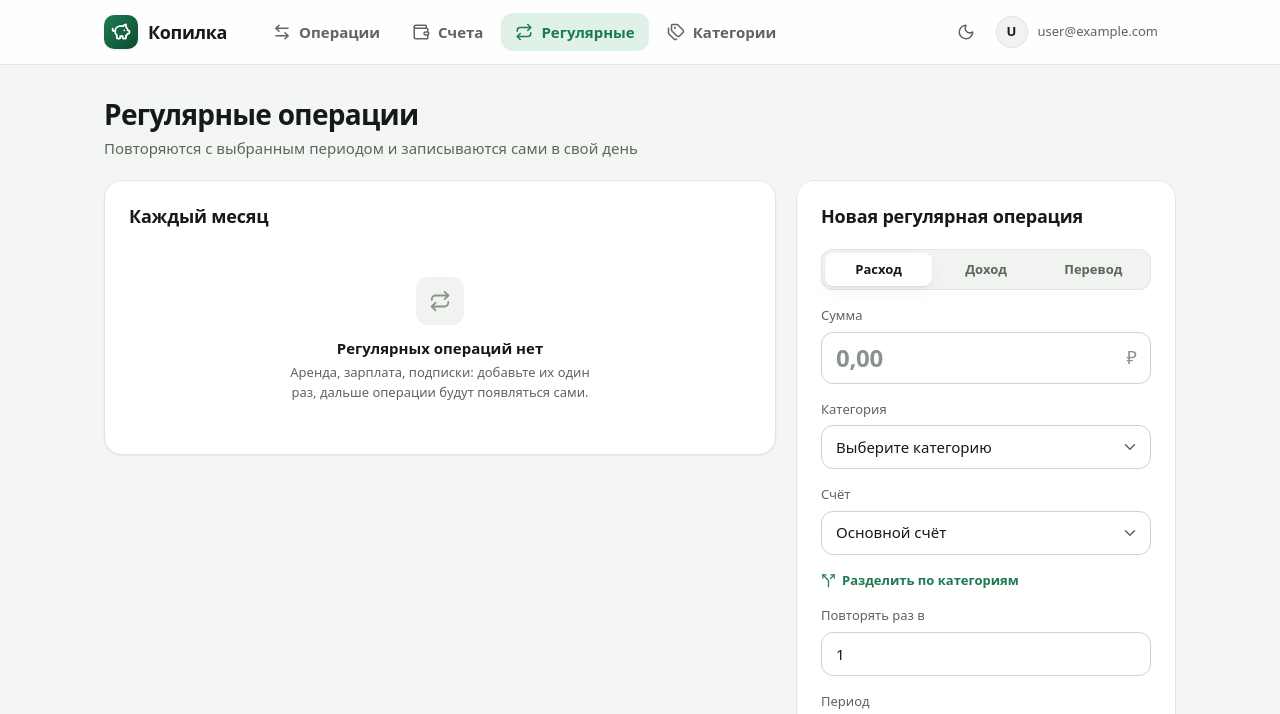
Scenario: RecurringPage › creates a rule that splits each payment between categories
Type "3500" into the field labelled "Сумма".
click(986, 358); type("3500")  # box x1=821 y1=332 x2=1151 y2=384
Select "Жильё" in the dropdown labelled "Категория" at (986, 447), box x1=821 y1=425 x2=1151 y2=469
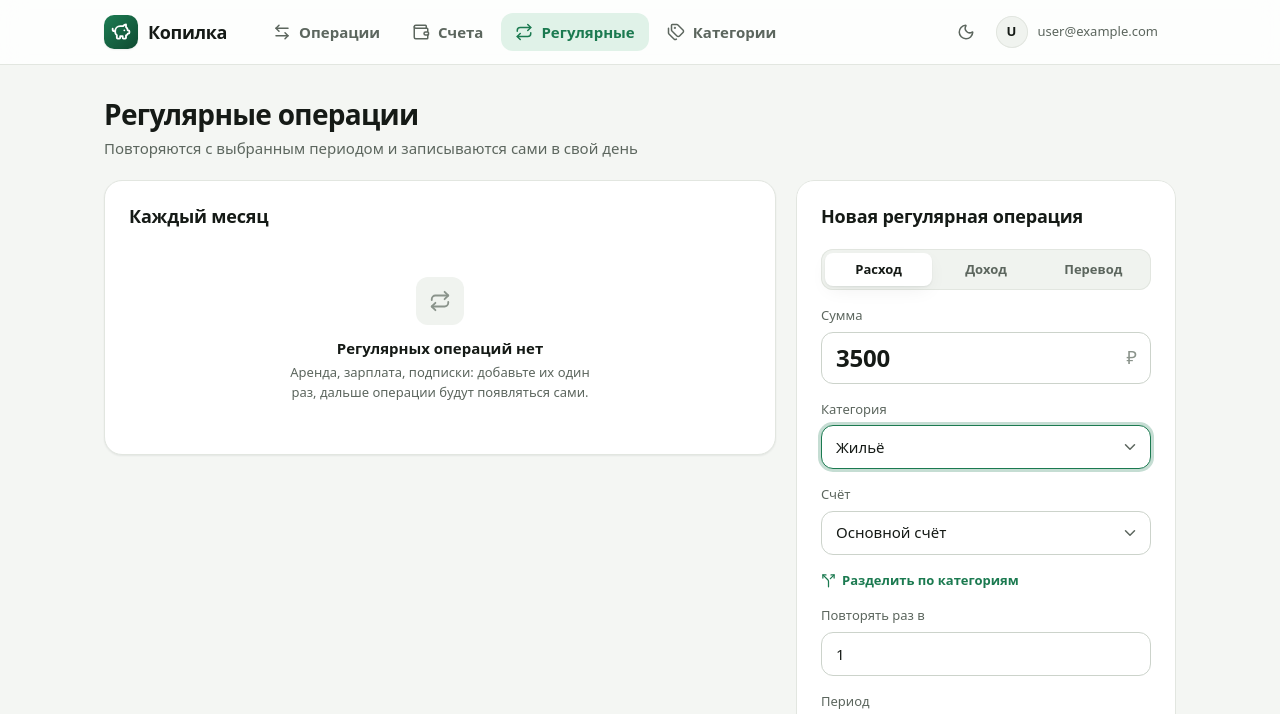
Click the button "Разделить по категориям".
click(920, 580)  # box x1=821 y1=570 x2=1019 y2=590
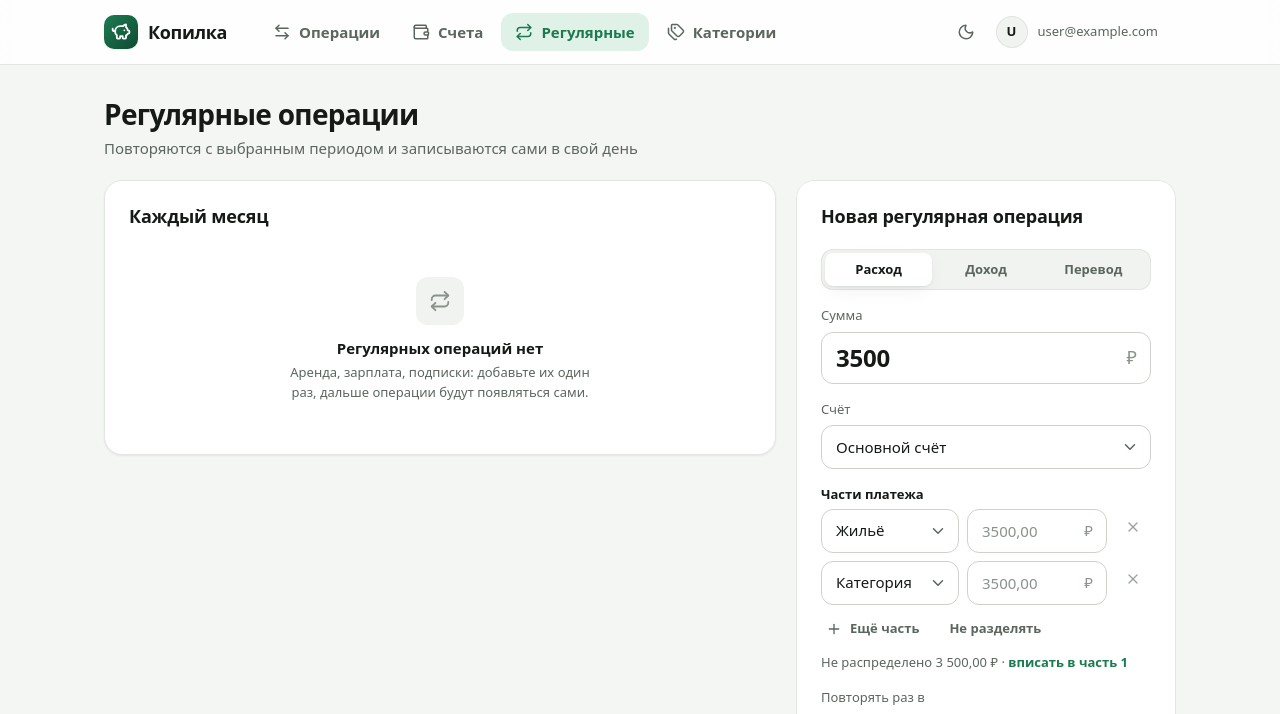
Now the 1st dropdown named "Категория части 1" shows "Жильё", box x1=821 y1=508 x2=959 y2=552
Type "2000" into the field named "Сумма части 1".
click(1037, 530); type("2000")  # box x1=967 y1=508 x2=1107 y2=552
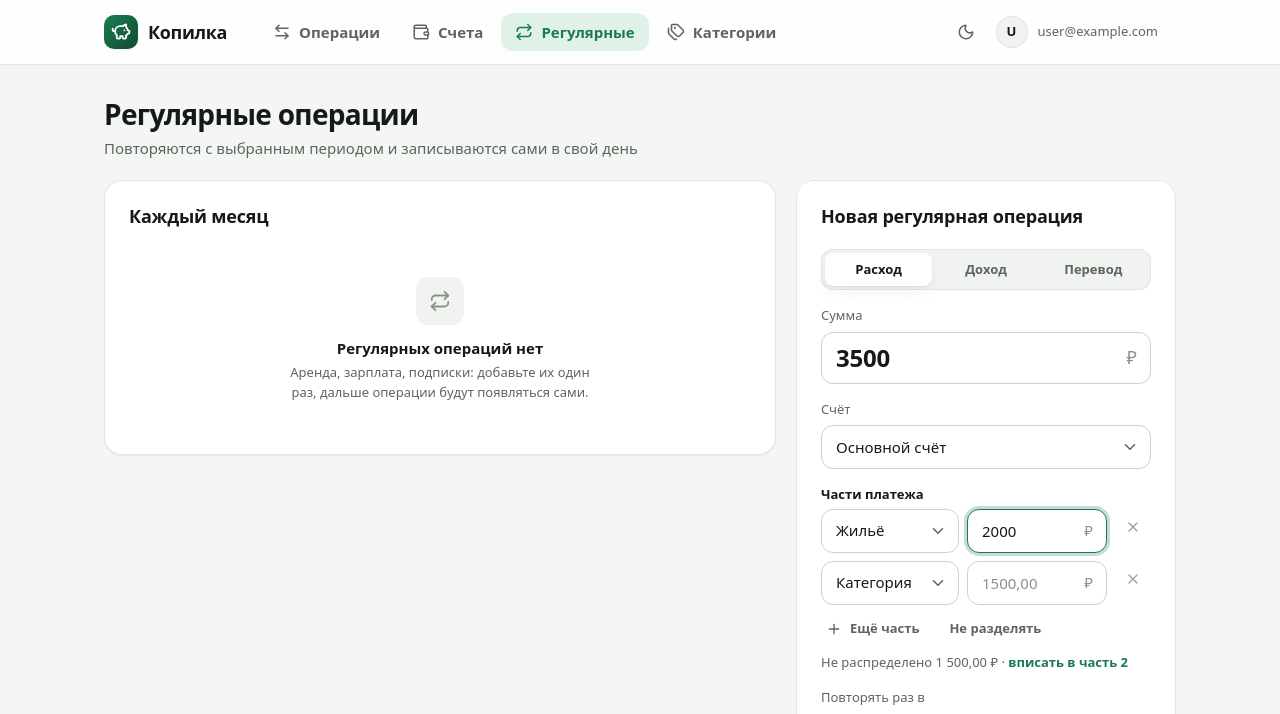
Select "Продукты" in the 2nd dropdown named "Категория части 2" at (890, 582), box x1=821 y1=560 x2=959 y2=604
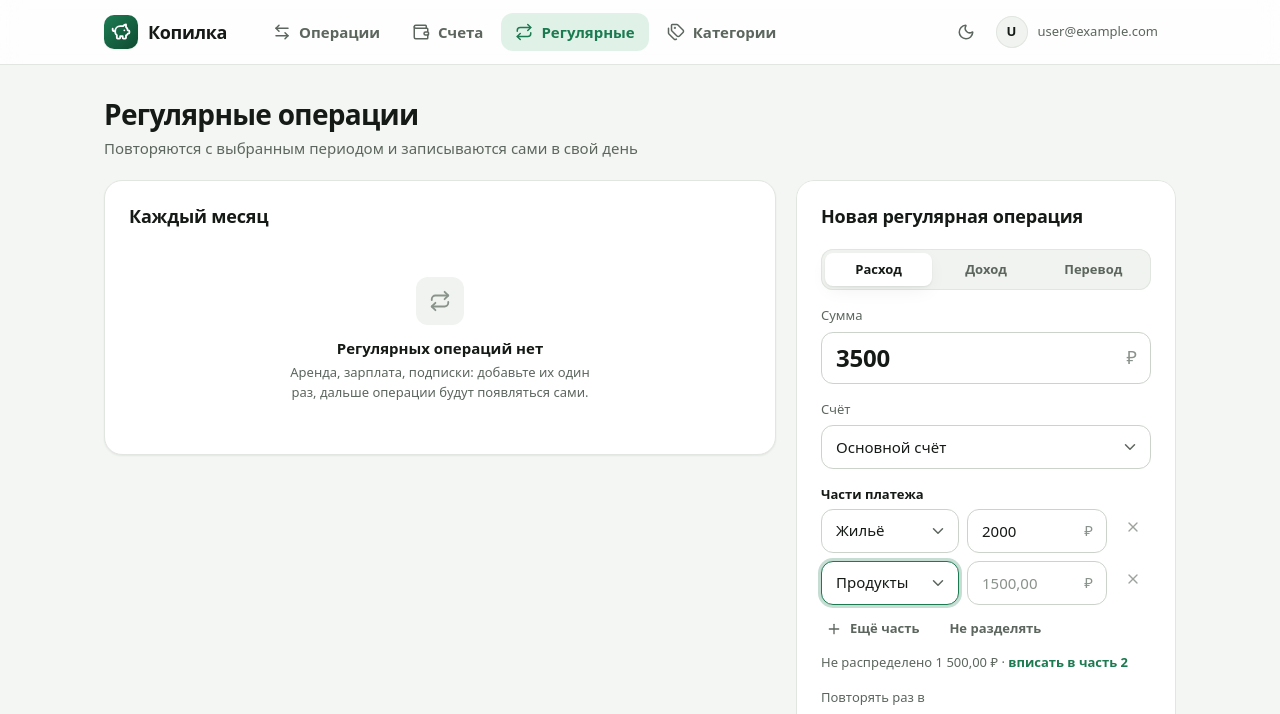
Click the button "вписать в часть 2".
click(1068, 662)  # box x1=1008 y1=652 x2=1128 y2=672
(page scrolled)
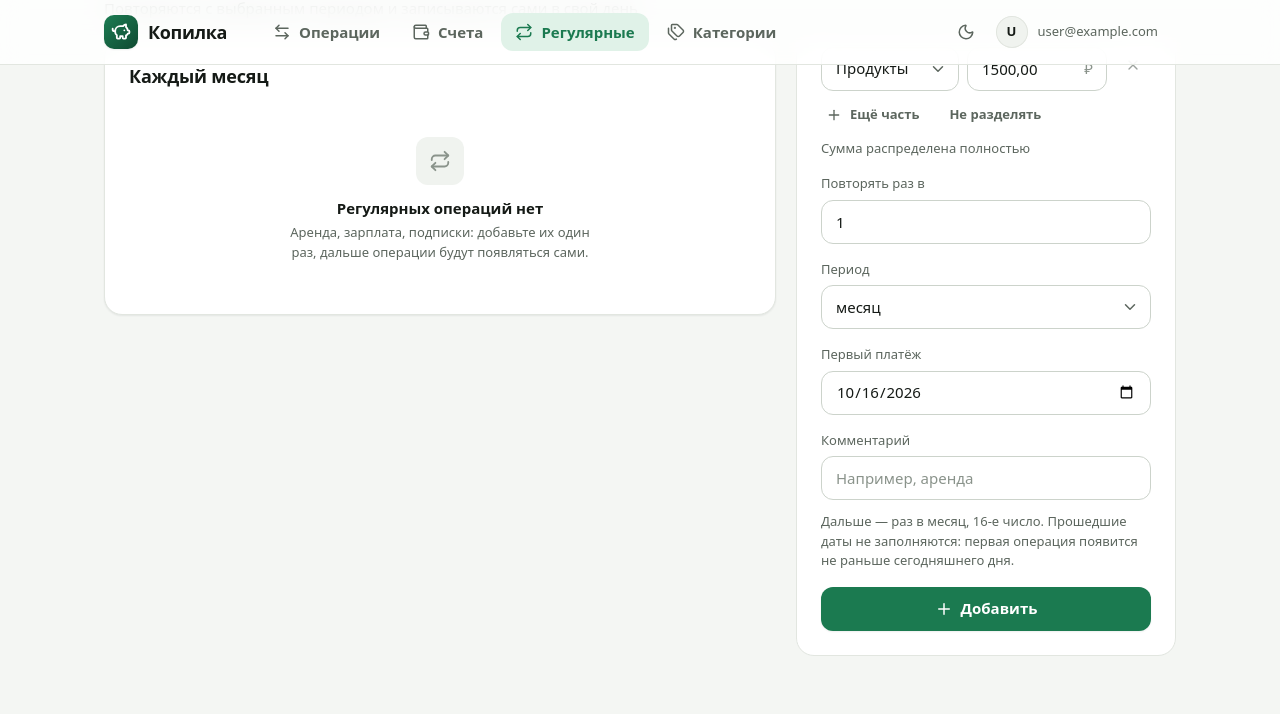
Click the button "Добавить".
click(986, 608)  # box x1=821 y1=586 x2=1151 y2=630
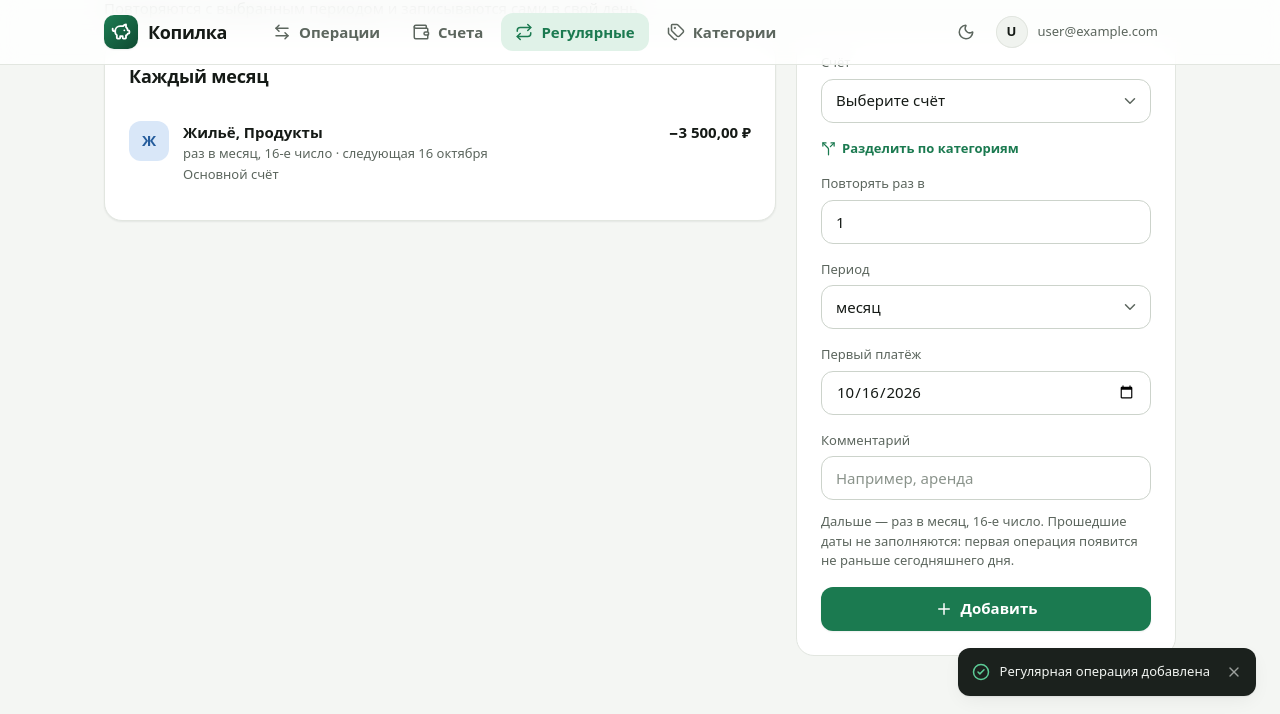
Now the text "Регулярная операция добавлена" is shown, box x1=1000 y1=662 x2=1210 y2=682
Now the button "Жильё, Продукты" is shown, box x1=117 y1=108 x2=763 y2=196
